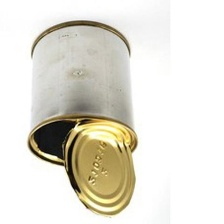can: (22, 16, 155, 221)
